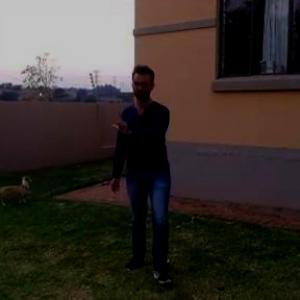land_hand: (110, 105, 134, 138)
